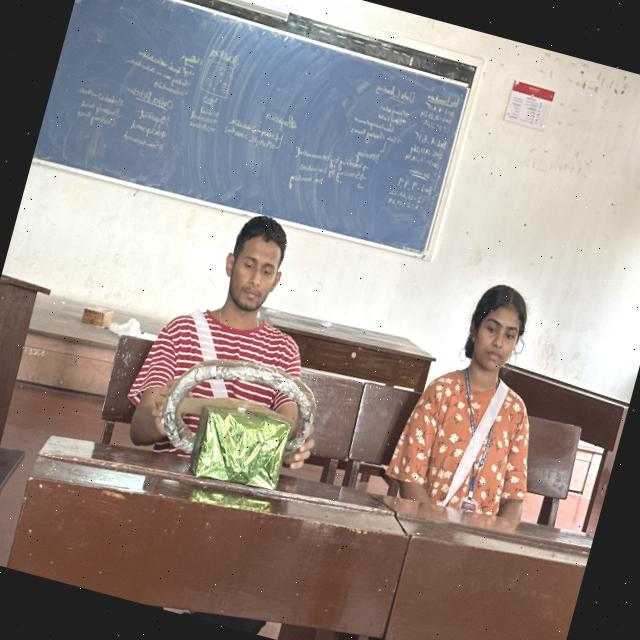seatbelt: (112, 296, 329, 498), (380, 359, 558, 542)
